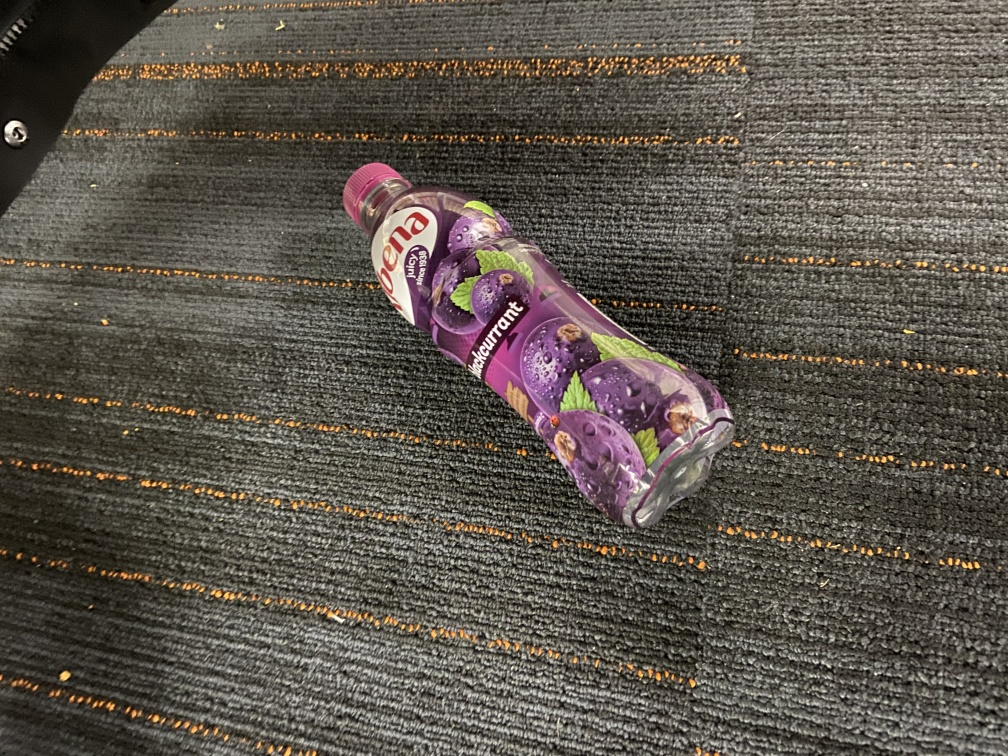bottle_purple: (339, 157, 740, 537)
